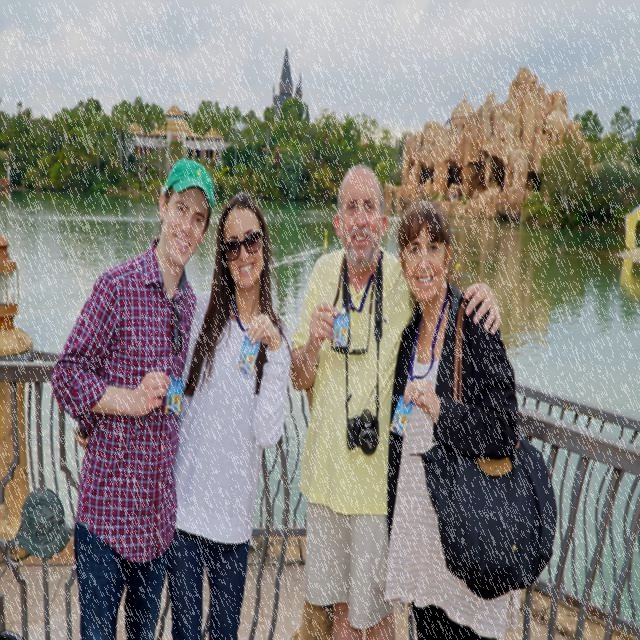pessoa: (68, 186, 295, 638), (46, 150, 220, 638), (382, 197, 524, 638), (287, 158, 416, 638)
